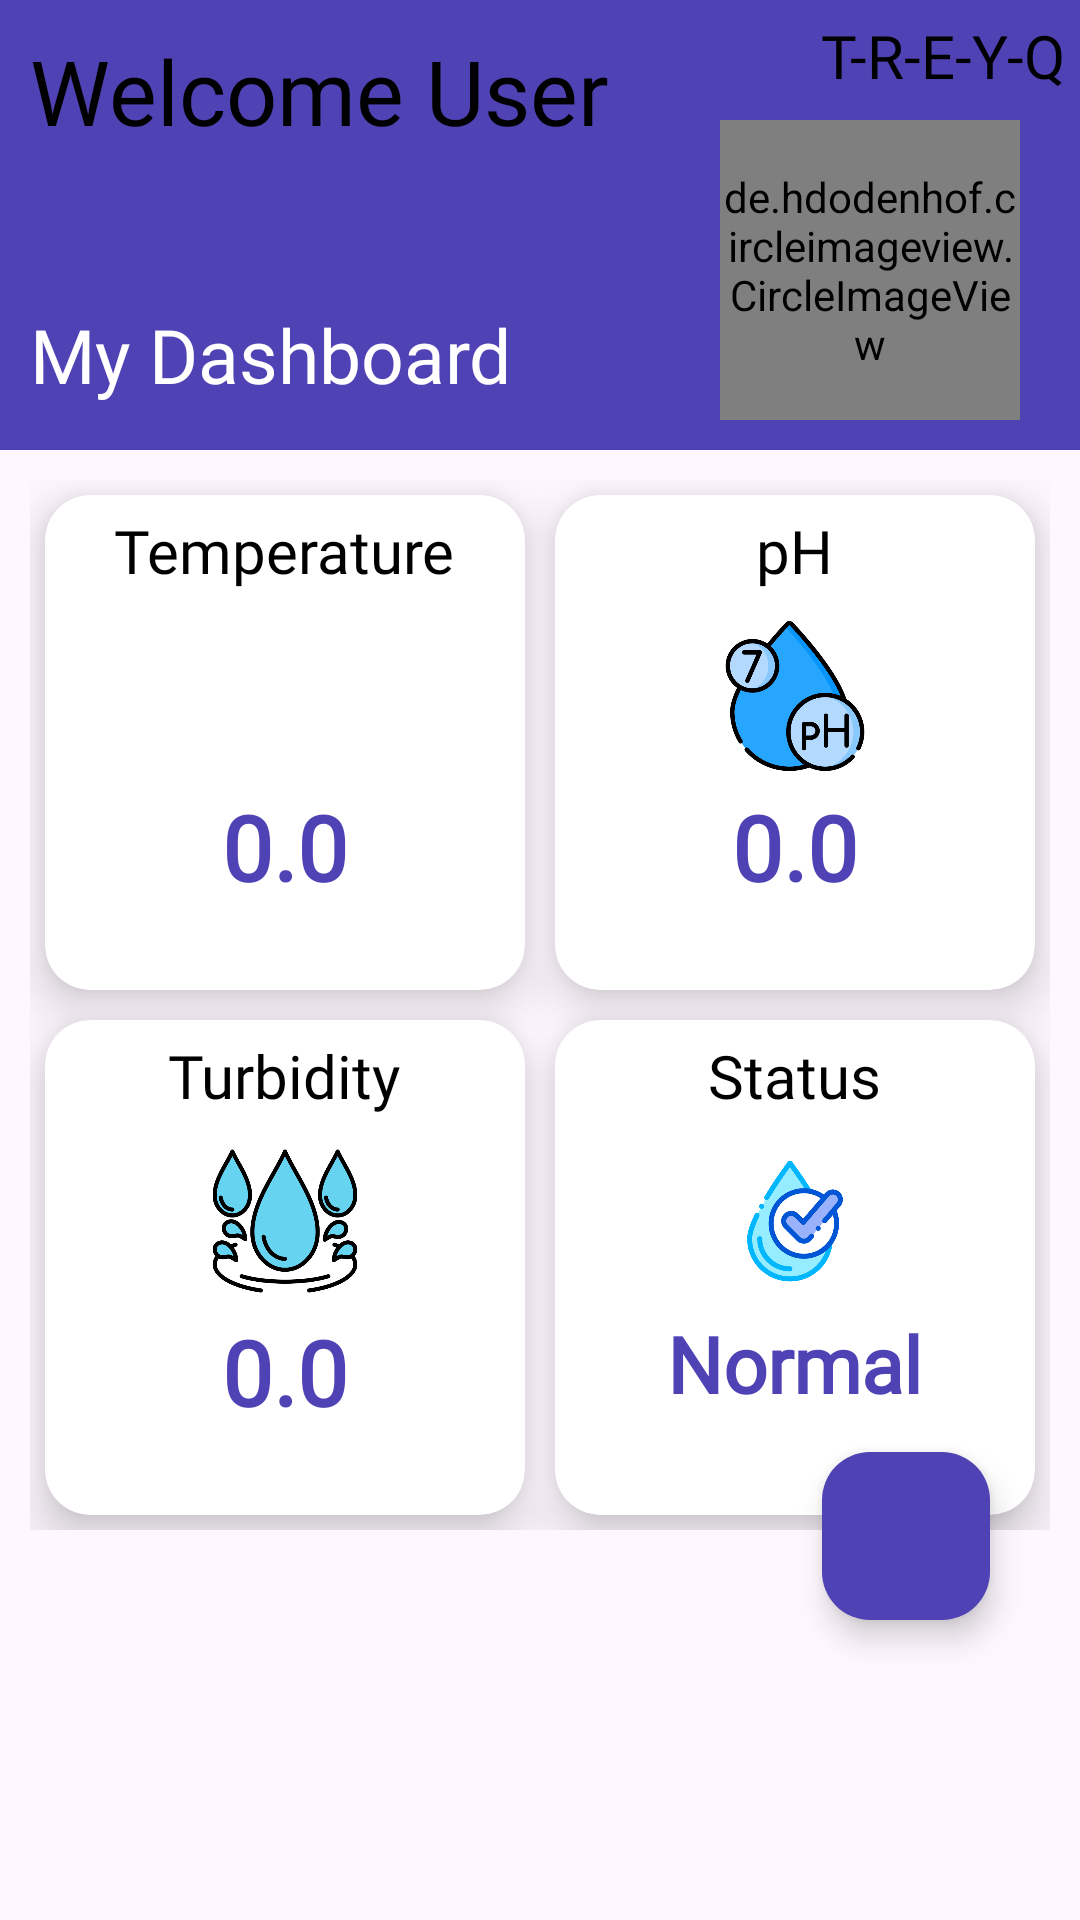

Icons on this 1080*1920 Android screen, each with the point to tap as [x,y]:
water: [285,1221]
